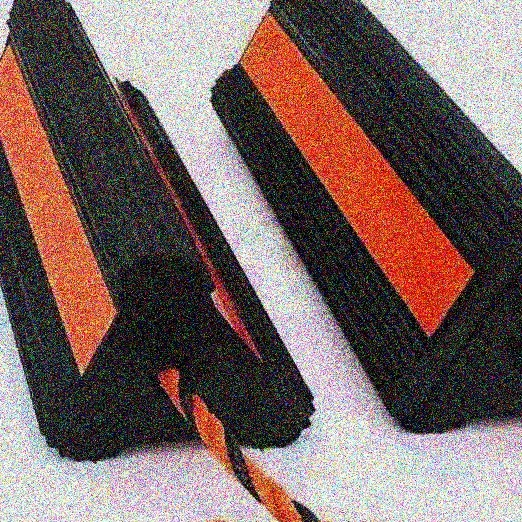chock: (0, 0, 328, 521), (195, 0, 522, 487)
